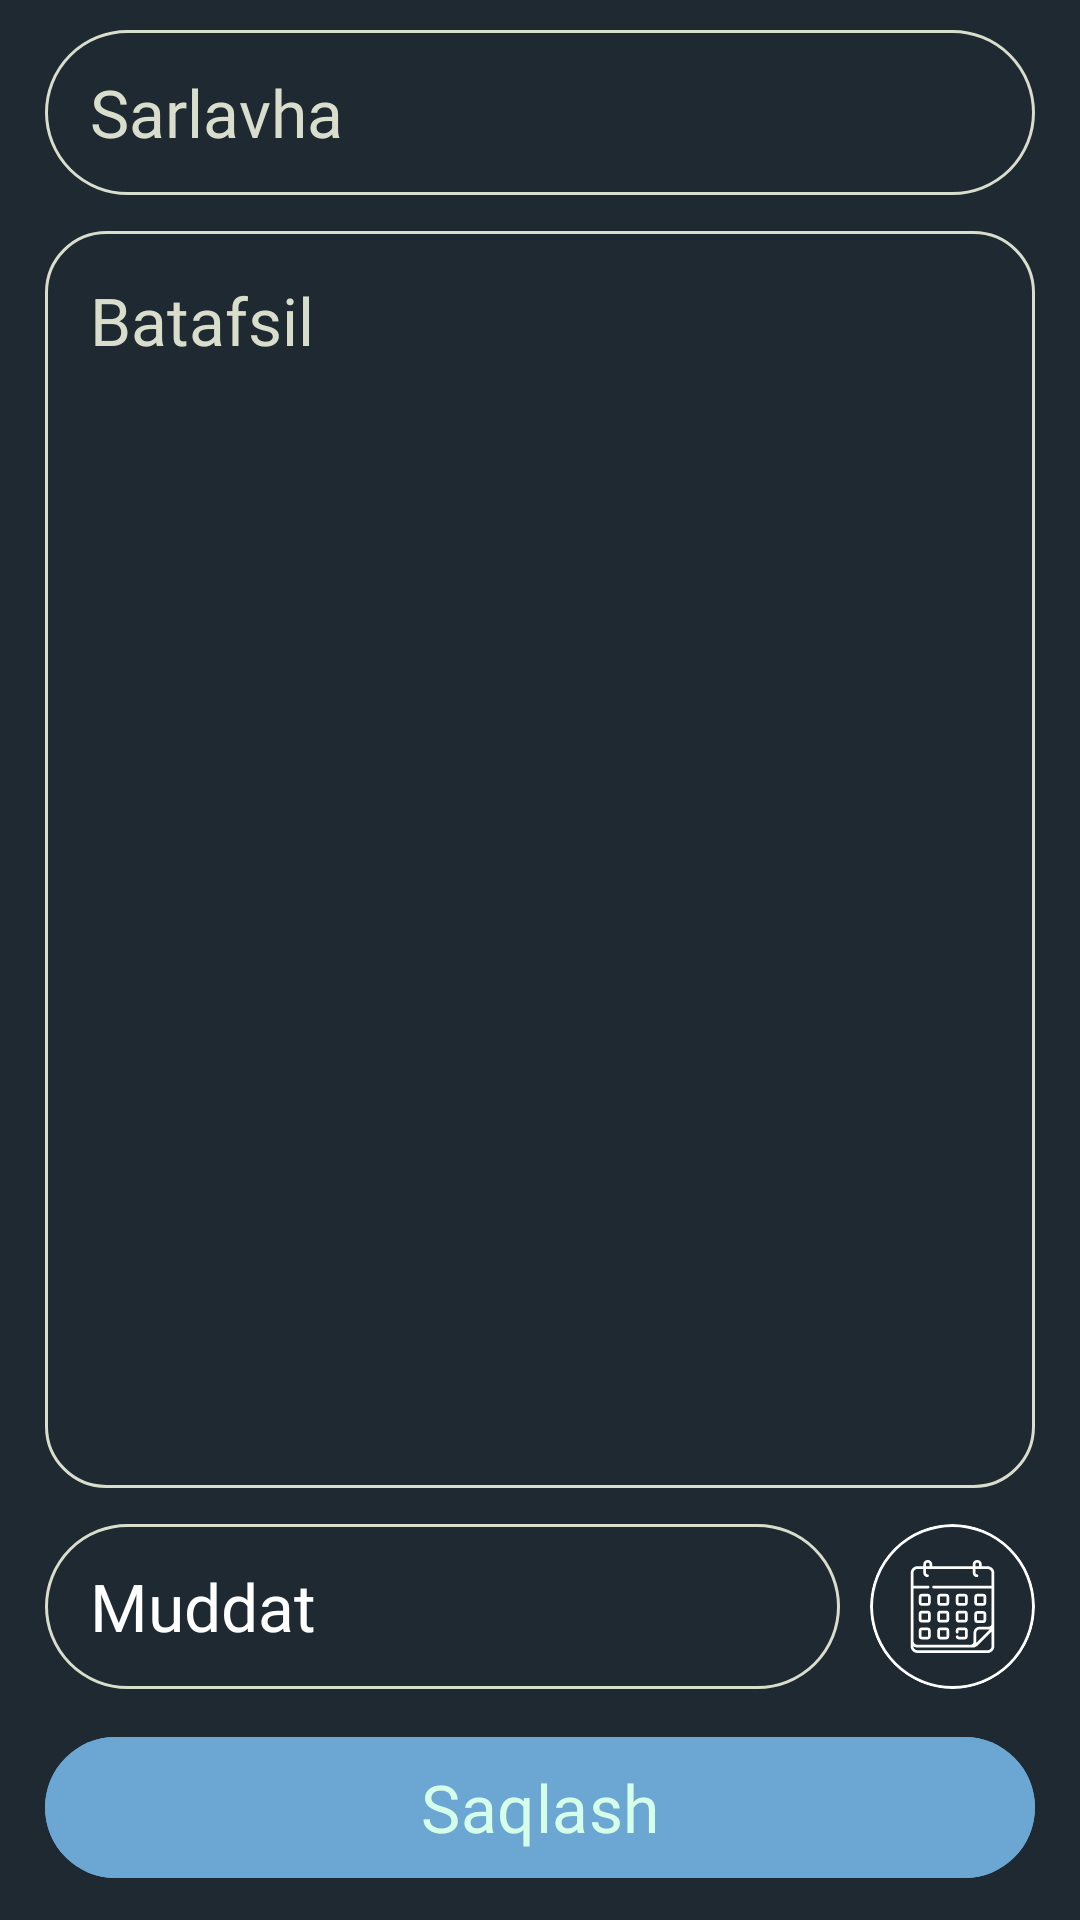

Named icons in this screenshot (1080 x 1920) and their bounding boxes, rect(x1, y1, x2, y2):
calendar: rect(870, 1524, 1035, 1689)
